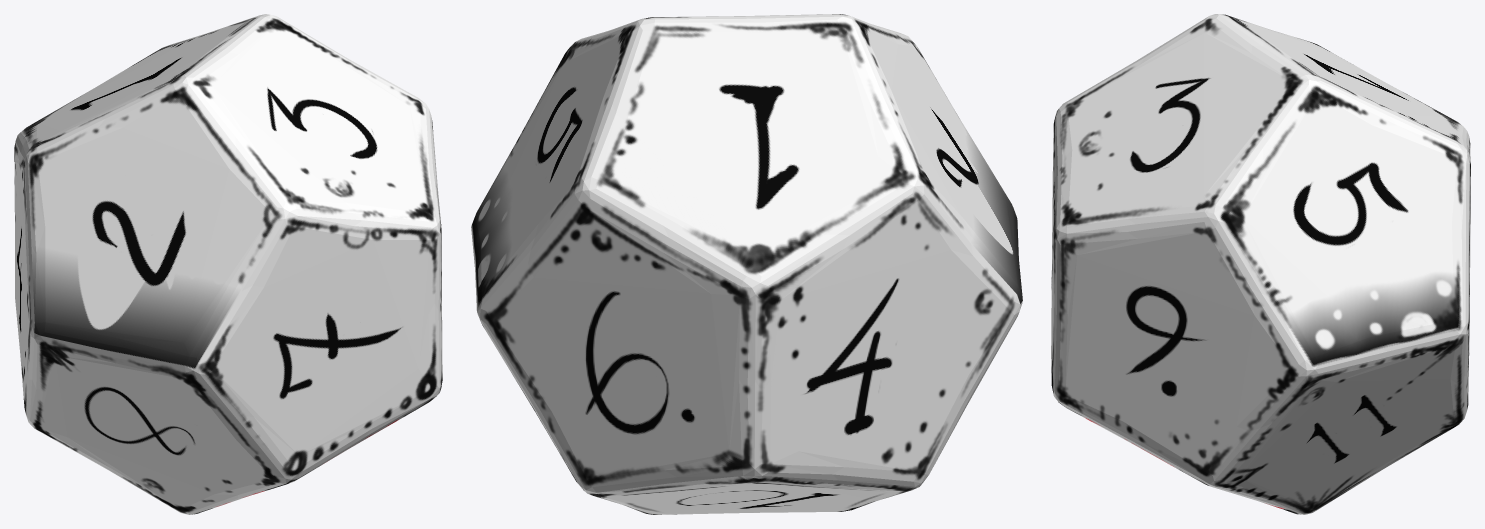
3 renders of one model, left to right at view 1: azimuth 30°, elevation 25°; view 2: azimuth 150°, elevation 25°; view 3: azimuth 270°, elevation 25°, orthographic. The views are drawn at different scales.
Parts seen in each view (by area): view 1: d12; view 2: d12; view 3: d12.
Part boxes in pixels (bbox=[...]): d12: bbox=[14, 14, 442, 514]; d12: bbox=[471, 14, 1022, 514]; d12: bbox=[1051, 14, 1470, 514].
Bounding box in the file's own units: 5.99 × 5.73 × 4.99.
1 material, 1 textured.
